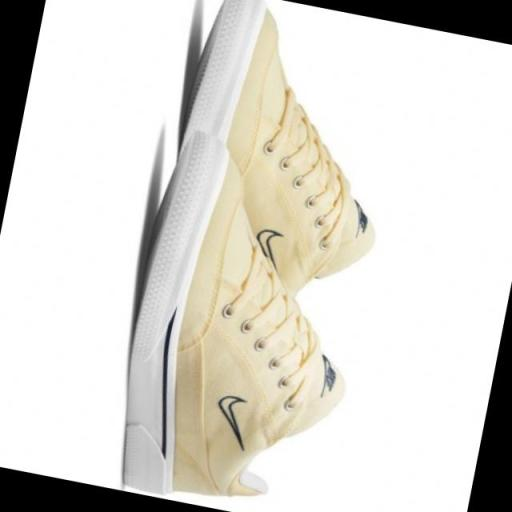Nike: (207, 387, 262, 456)
